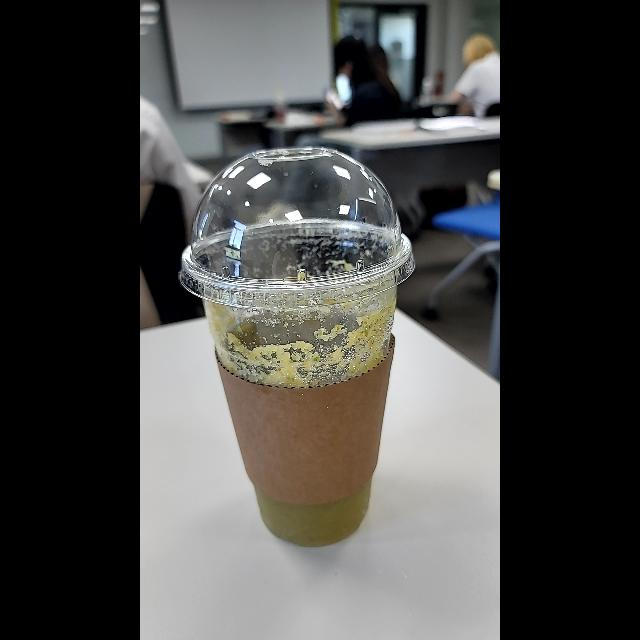plastic_cup: (178, 140, 418, 550)
plastic_cup_lid: (177, 145, 416, 307)
